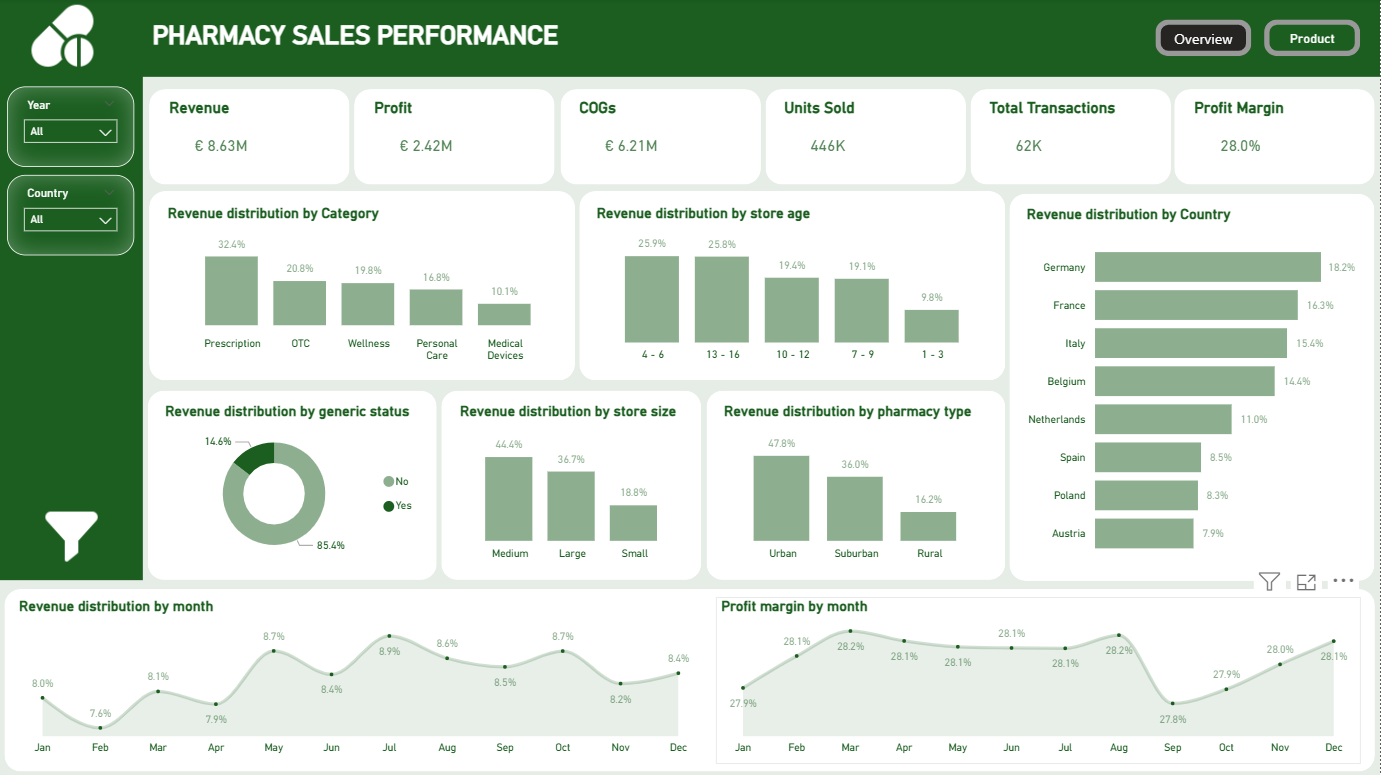

What the dashboard file says about the page in this screenshot:
{"tool":"powerbi","page":{"name":"Overview","canvas":[1280,720],"ordinal":0},"visuals":[{"type":"shape","box":[0,0,1280.5,73.1],"z":0},{"type":"shape","box":[139.7,84.6,185.9,88.4],"z":1000},{"type":"shape","box":[520.4,84.6,185.9,88.4],"z":2000},{"type":"shape","box":[1089.5,84.6,185.9,88.4],"z":3000},{"type":"shape","box":[710.1,84.6,185.9,88.4],"z":4000},{"type":"shape","box":[329.4,84.6,185.9,88.4],"z":5000},{"type":"shape","box":[899.8,84.6,185.9,88.4],"z":6000},{"type":"shape","box":[139.7,179.2,394.8,175.6],"z":7000},{"type":"shape","box":[538.3,179.2,394.8,175.6],"z":8000},{"type":"shape","box":[937,180.7,338.4,358.9],"z":9000},{"type":"shape","box":[5.1,547.3,1270.2,169.2],"z":10000},{"type":"cardVisual","title":"Revenue","fields":{"Data":["Aggregates.Gross Revenue"]},"box":[152.5,93.6,158.9,69.2],"z":11000},{"type":"cardVisual","title":"Profit","fields":{"Data":["Aggregates.Total Profit"]},"box":[342.2,93.6,158.9,69.2],"z":12000},{"type":"cardVisual","title":"COGs","fields":{"Data":["Aggregates.COGS"]},"box":[533.2,93.6,158.9,69.2],"z":13000},{"type":"cardVisual","title":"Units Sold","fields":{"Data":["Aggregates.Total units sold"]},"box":[722.9,93.6,158.9,69.2],"z":14000},{"type":"cardVisual","title":"Total Transactions","fields":{"Data":["Aggregates.Total sales"]},"box":[912.6,93.6,158.9,69.2],"z":15000},{"type":"cardVisual","title":"Profit Margin","fields":{"Data":["Aggregates.Profit margin"]},"box":[1102.3,93.6,158.9,69.2],"z":16000},{"type":"clusteredColumnChart","title":"Revenue distribution by Category","fields":{"Category":["DimProduct.Category"],"Y":["Statistics.% revenue"]},"box":[151.3,191,373,153.8],"z":17000},{"type":"clusteredBarChart","title":"Revenue distribution by Country","fields":{"Category":["DimPharmacy.Country"],"Y":["Statistics.% revenue"]},"box":[947.2,192.3,314,337.1],"z":18000},{"type":"clusteredColumnChart","title":"Revenue distribution by store age","fields":{"Y":["Statistics.% revenue"],"Category":["DimPharmacy.Store Age (Years)"]},"box":[548.6,191,373,153.8],"z":19000},{"type":"shape","box":[138.4,364,267.9,175.6],"z":20000},{"type":"donutChart","title":"Revenue distribution by generic status","fields":{"Category":["DimProduct.IsGeneric"],"Y":["Aggregates.Gross Revenue"]},"box":[148.7,375.6,247.4,152.5],"z":21000},{"type":"shape","box":[410.2,364,241,175.6],"z":22000},{"type":"clusteredColumnChart","title":"Revenue distribution by store size","fields":{"Y":["Statistics.% revenue"],"Category":["DimPharmacy.StoreSizeBand"]},"box":[421.7,375.6,217.9,153.8],"z":23000},{"type":"shape","box":[656.3,364,276.9,175.6],"z":24000},{"type":"clusteredColumnChart","title":"Revenue distribution by pharmacy type","fields":{"Y":["Statistics.% revenue"],"Category":["DimPharmacy.PharmacyType"]},"box":[666.5,375.6,255.1,153.8],"z":25000},{"type":"areaChart","title":"Revenue distribution by month","fields":{"Y":["Statistics.% revenue"],"Category":["Date table.Month"]},"box":[14.1,555,642.2,153.8],"z":26000},{"type":"areaChart","title":"Profit margin by month","fields":{"Category":["Date table.Month"],"Y":["Aggregates.Profit margin"]},"box":[664,555,597.3,153.8],"z":27000},{"type":"shape","box":[0,0,133.3,539.6],"z":28000},{"type":"slicer","fields":{"Values":["Date table.Year"]},"box":[7.7,82.3,117.9,74.3],"z":29000},{"type":"slicer","fields":{"Values":["DimPharmacy.Country"]},"box":[7.7,164.3,117.9,74.3],"z":30000},{"type":"textbox","box":[130.7,15.4,399.9,44.9],"z":31000},{"type":"image","box":[10.3,6.4,97.4,57.7],"z":32000},{"type":"image","box":[38.5,465.3,57.7,64.1],"z":33000},{"type":"pageNavigator","box":[1071.8,19.9,190,34.8],"z":34000}]}

Visuals, with their boxes in screenshot pixels (x1, y1, x2, y2), scaled from the page's 1280x720 canvas onto the 1381x775 screenshot:
shape: {"x1": 0, "y1": 0, "x2": 1380, "y2": 79}
shape: {"x1": 151, "y1": 91, "x2": 351, "y2": 186}
shape: {"x1": 561, "y1": 91, "x2": 762, "y2": 186}
shape: {"x1": 1175, "y1": 91, "x2": 1376, "y2": 186}
shape: {"x1": 766, "y1": 91, "x2": 967, "y2": 186}
shape: {"x1": 355, "y1": 91, "x2": 556, "y2": 186}
shape: {"x1": 971, "y1": 91, "x2": 1171, "y2": 186}
shape: {"x1": 151, "y1": 193, "x2": 577, "y2": 382}
shape: {"x1": 581, "y1": 193, "x2": 1007, "y2": 382}
shape: {"x1": 1011, "y1": 195, "x2": 1376, "y2": 581}
shape: {"x1": 6, "y1": 589, "x2": 1376, "y2": 771}
"Revenue" cardVisual: {"x1": 165, "y1": 101, "x2": 336, "y2": 175}
"Profit" cardVisual: {"x1": 369, "y1": 101, "x2": 541, "y2": 175}
"COGs" cardVisual: {"x1": 575, "y1": 101, "x2": 747, "y2": 175}
"Units Sold" cardVisual: {"x1": 780, "y1": 101, "x2": 951, "y2": 175}
"Total Transactions" cardVisual: {"x1": 985, "y1": 101, "x2": 1156, "y2": 175}
"Profit Margin" cardVisual: {"x1": 1189, "y1": 101, "x2": 1361, "y2": 175}
"Revenue distribution by Category" clusteredColumnChart: {"x1": 163, "y1": 206, "x2": 566, "y2": 371}
"Revenue distribution by Country" clusteredBarChart: {"x1": 1022, "y1": 207, "x2": 1361, "y2": 570}
"Revenue distribution by store age" clusteredColumnChart: {"x1": 592, "y1": 206, "x2": 994, "y2": 371}
shape: {"x1": 149, "y1": 392, "x2": 438, "y2": 581}
"Revenue distribution by generic status" donutChart: {"x1": 160, "y1": 404, "x2": 427, "y2": 568}
shape: {"x1": 443, "y1": 392, "x2": 703, "y2": 581}
"Revenue distribution by store size" clusteredColumnChart: {"x1": 455, "y1": 404, "x2": 690, "y2": 570}
shape: {"x1": 708, "y1": 392, "x2": 1007, "y2": 581}
"Revenue distribution by pharmacy type" clusteredColumnChart: {"x1": 719, "y1": 404, "x2": 994, "y2": 570}
"Revenue distribution by month" areaChart: {"x1": 15, "y1": 597, "x2": 708, "y2": 763}
"Profit margin by month" areaChart: {"x1": 716, "y1": 597, "x2": 1361, "y2": 763}
shape: {"x1": 0, "y1": 0, "x2": 144, "y2": 581}
slicer - Date table.Year: {"x1": 8, "y1": 89, "x2": 136, "y2": 169}
slicer - DimPharmacy.Country: {"x1": 8, "y1": 177, "x2": 136, "y2": 257}
textbox: {"x1": 141, "y1": 17, "x2": 572, "y2": 65}
image: {"x1": 11, "y1": 7, "x2": 116, "y2": 69}
image: {"x1": 42, "y1": 501, "x2": 104, "y2": 570}
pageNavigator: {"x1": 1156, "y1": 21, "x2": 1361, "y2": 59}
